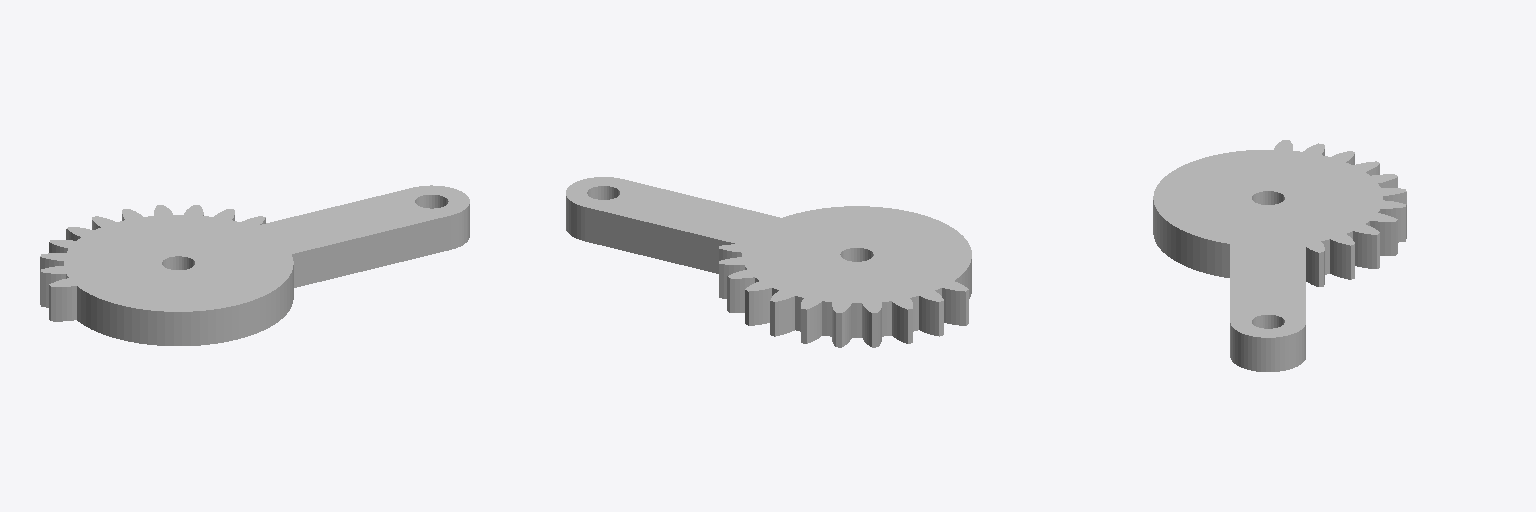
File: fabconvert_com_gear1_obj.obj
The picture shows the model from 3 angles: view 1: azimuth 30°, elevation 25°; view 2: azimuth 150°, elevation 25°; view 3: azimuth 270°, elevation 25°; orthographic projection.
Parts seen in each view (by area): view 1: fabconvert.com_gear1; view 2: fabconvert.com_gear1; view 3: fabconvert.com_gear1.
Part boxes in pixels (bbox=[...]): fabconvert.com_gear1: bbox=[40, 185, 469, 345]; fabconvert.com_gear1: bbox=[566, 177, 971, 347]; fabconvert.com_gear1: bbox=[1153, 140, 1406, 371].
Size of the model in its own units: 2.96 by 0.2399 by 1.6.